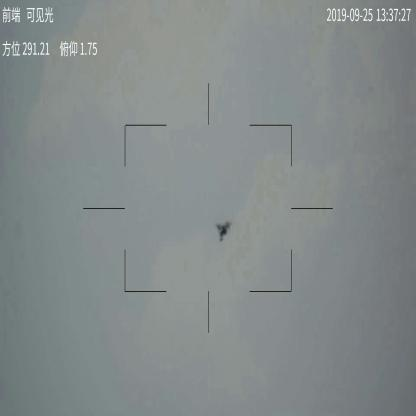uav: (212, 218, 230, 244)
